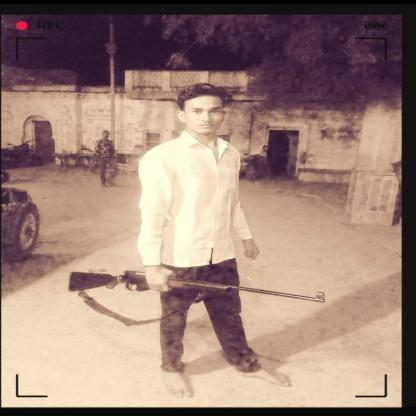rifle: (67, 269, 326, 304)
